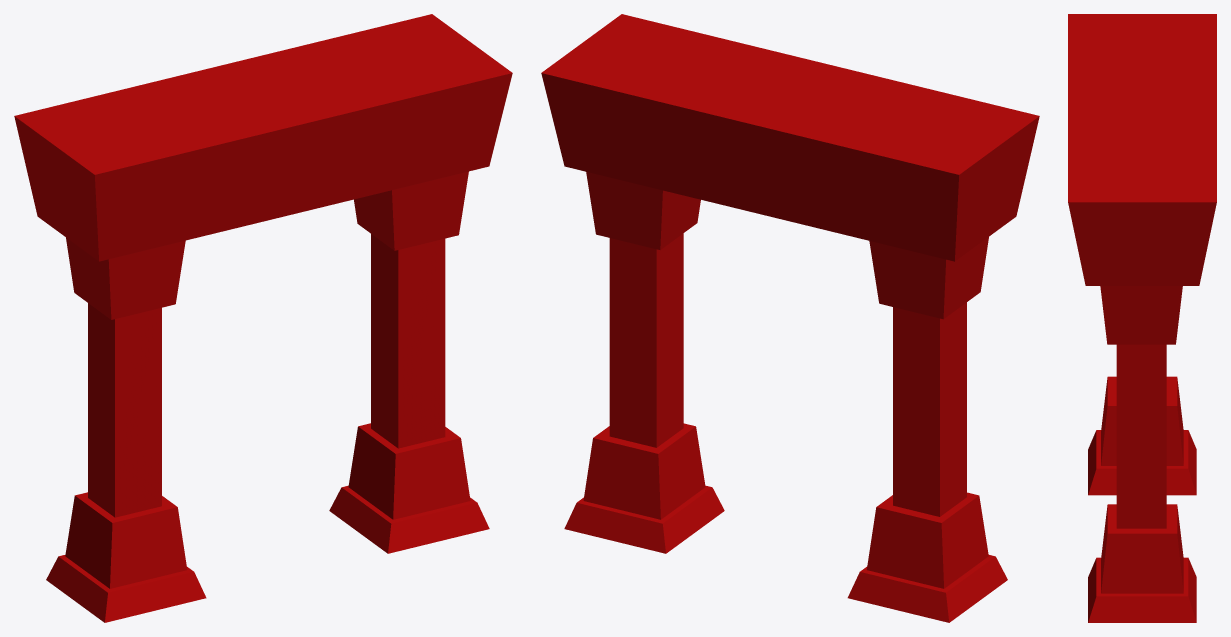
File: SM_Bld_Ruins_Archway_02_Collision.gltf
The picture shows the model from 3 angles, left to right: view 1: azimuth 30°, elevation 25°; view 2: azimuth 150°, elevation 25°; view 3: azimuth 270°, elevation 25°; orthographic projection. The views are drawn at different scales.
Parts seen in each view (by area): view 1: SM_Bld_Ruins_Archway_02_Collision; view 2: SM_Bld_Ruins_Archway_02_Collision; view 3: SM_Bld_Ruins_Archway_02_Collision.
Part boxes in pixels (left/top/right/bottom): SM_Bld_Ruins_Archway_02_Collision: left=14, top=14, right=512, bottom=622; SM_Bld_Ruins_Archway_02_Collision: left=541, top=14, right=1039, bottom=622; SM_Bld_Ruins_Archway_02_Collision: left=1068, top=14, right=1216, bottom=622.
Size of the model in its own units: 8.74 by 9.21 by 2.92.
